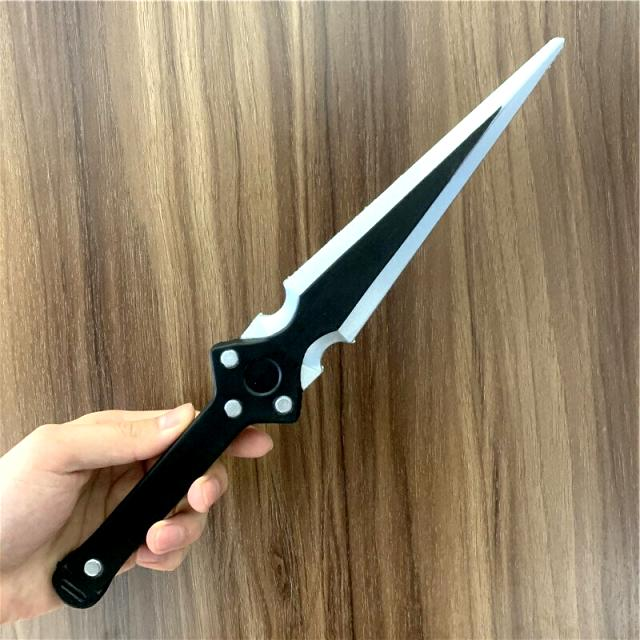short sword: (37, 27, 583, 608)
